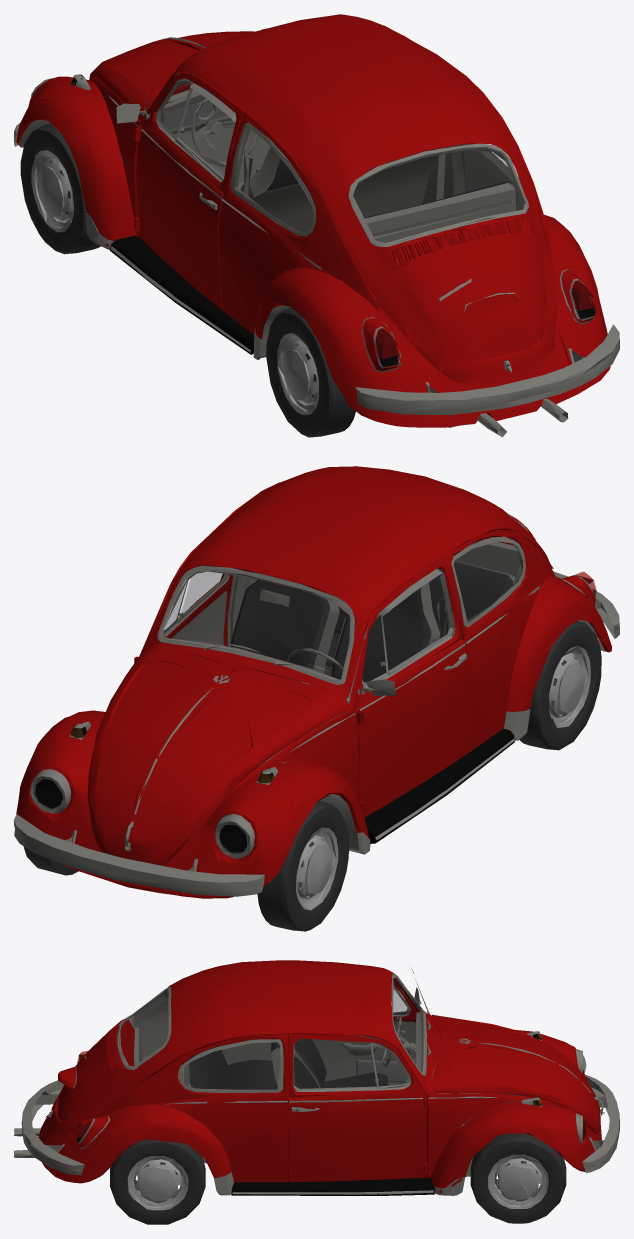
3 renders of one model, top to bottom at view 1: azimuth 30°, elevation 25°; view 2: azimuth 150°, elevation 25°; view 3: azimuth 270°, elevation 25°, orthographic. The views are drawn at different scales.
Parts seen in each view (by area): view 1: static_beetle • vMAT_Volkswagen_Beetle_1968_Base1, static_beetle • vMAT_Details_MAT_127, static_beetle • vMAT_Glass_069, static_beetle • llanta, static_beetle • vMAT_Tire_Hub_055, static_beetle • vMAT_Details_EXT_092, static_beetle • vMAT_Lights_096, static_beetle • red_glass, static_beetle • vMAT_Details_INT_009, static_beetle • vMAT_Details_Add_01_004; view 2: static_beetle • vMAT_Volkswagen_Beetle_1968_Base1, static_beetle • vMAT_Details_MAT_127, static_beetle • vMAT_Glass_069, static_beetle • vMAT_Details_Add_01_004, static_beetle • llanta, static_beetle • vMAT_Tire_Hub_055, static_beetle • vMAT_Details_EXT_092, static_beetle • vMAT_Lights_096; view 3: static_beetle • vMAT_Volkswagen_Beetle_1968_Base1, static_beetle • vMAT_Details_MAT_127, static_beetle • vMAT_Glass_069, static_beetle • llanta, static_beetle • vMAT_Tire_Hub_055, static_beetle • vMAT_Details_Add_01_004, static_beetle • vMAT_Details_EXT_092, static_beetle • vMAT_Details_INT_009.
Part boxes in pixels (box(x1,y1,x2,y2)): static_beetle • vMAT_Volkswagen_Beetle_1968_Base1: box(16, 14, 610, 427); static_beetle • vMAT_Details_MAT_127: box(14, 28, 619, 437); static_beetle • vMAT_Glass_069: box(162, 83, 596, 366); static_beetle • llanta: box(20, 123, 355, 437); static_beetle • vMAT_Tire_Hub_055: box(31, 150, 318, 413); static_beetle • vMAT_Details_EXT_092: box(81, 78, 509, 365); static_beetle • vMAT_Lights_096: box(70, 29, 595, 366); static_beetle • red_glass: box(376, 280, 596, 358); static_beetle • vMAT_Details_INT_009: box(169, 101, 226, 132); static_beetle • vMAT_Details_Add_01_004: box(266, 144, 511, 218); static_beetle • vMAT_Volkswagen_Beetle_1968_Base1: box(16, 466, 611, 898); static_beetle • vMAT_Details_MAT_127: box(14, 489, 619, 896); static_beetle • vMAT_Glass_069: box(34, 542, 596, 854); static_beetle • vMAT_Details_Add_01_004: box(230, 561, 512, 682); static_beetle • llanta: box(23, 621, 601, 931); static_beetle • vMAT_Tire_Hub_055: box(296, 645, 590, 910); static_beetle • vMAT_Details_EXT_092: box(81, 723, 514, 843); static_beetle • vMAT_Lights_096: box(35, 575, 595, 852); static_beetle • vMAT_Volkswagen_Beetle_1968_Base1: box(38, 960, 601, 1192); static_beetle • vMAT_Details_MAT_127: box(14, 968, 619, 1195); static_beetle • vMAT_Glass_069: box(77, 978, 586, 1142); static_beetle • llanta: box(110, 1133, 566, 1224); static_beetle • vMAT_Tire_Hub_055: box(127, 1154, 548, 1210); static_beetle • vMAT_Details_Add_01_004: box(189, 1039, 387, 1092); static_beetle • vMAT_Details_EXT_092: box(231, 1032, 532, 1195); static_beetle • vMAT_Details_INT_009: box(356, 1042, 467, 1123).
Size of the model in its own units: 1.59 by 1.47 by 4.08.
13 materials, 9 textured.
